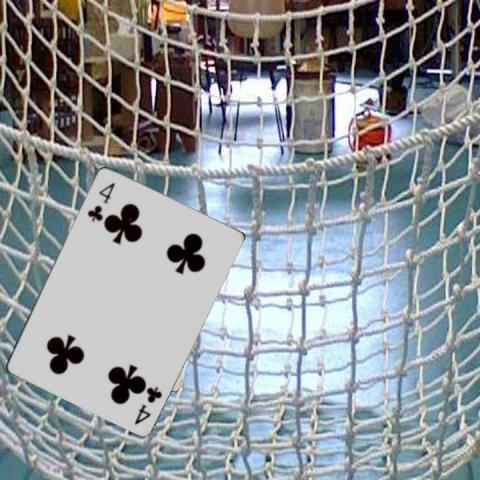4c: (84, 178, 116, 222), (132, 383, 164, 426)
